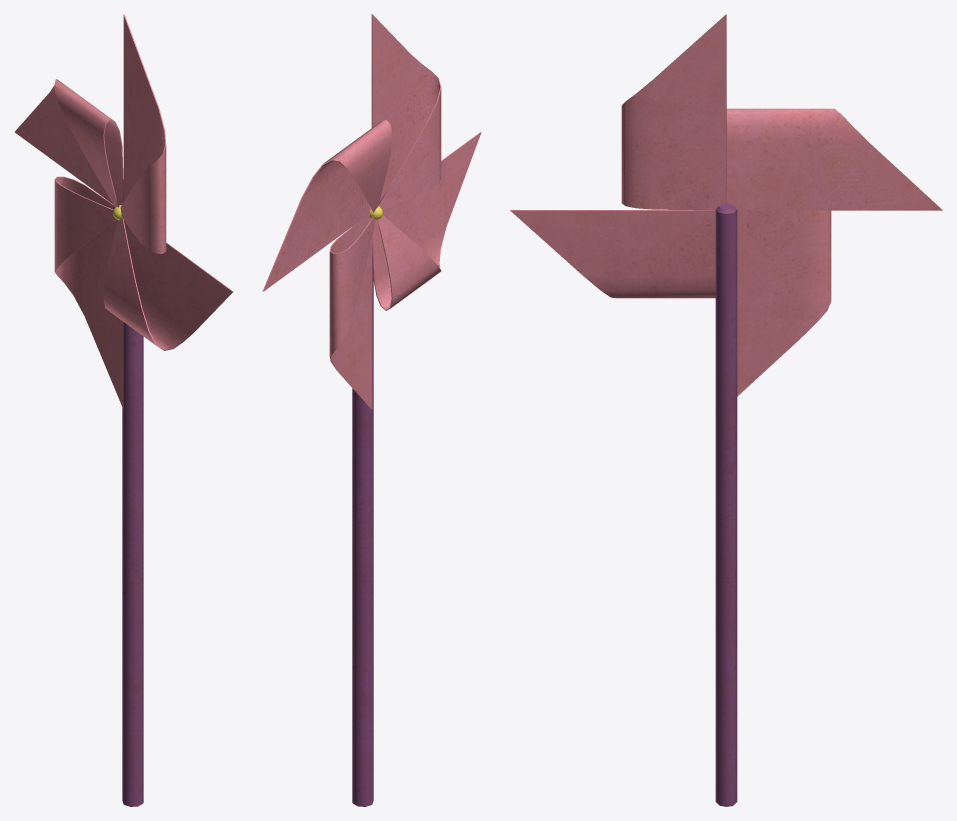
The model's file is Pinwheel_02.fbx.
3 views of the same model, side by side, from view 1: azimuth 30°, elevation 25°; view 2: azimuth 150°, elevation 25°; view 3: azimuth 270°, elevation 25° (orthographic).
Visible parts, largest first — view 1: Pinwheel_Blades.002, Pinwheel_Handle; view 2: Pinwheel_Blades.002, Pinwheel_Handle; view 3: Pinwheel_Blades.002, Pinwheel_Handle.
Part boxes in pixels (x1,y1,x2,y2): Pinwheel_Blades.002: (14,14,233,409); Pinwheel_Handle: (122,322,143,806); Pinwheel_Blades.002: (262,14,481,409); Pinwheel_Handle: (352,245,373,806); Pinwheel_Blades.002: (510,14,942,396); Pinwheel_Handle: (715,203,737,806).
Bounding box in the file's own units: 0.2067 × 2 × 4.
